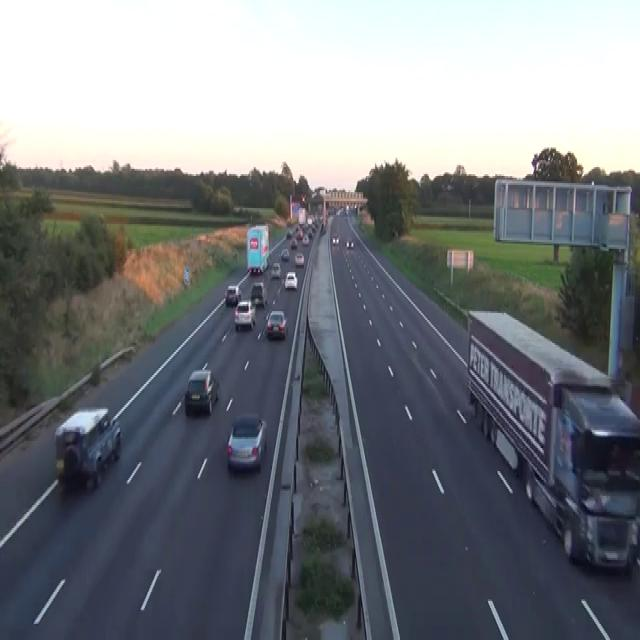Car: (226, 413, 267, 471), (184, 368, 219, 416), (233, 298, 256, 330), (266, 309, 287, 338), (250, 281, 267, 307), (225, 284, 241, 306), (284, 270, 297, 290), (270, 261, 281, 279), (294, 250, 304, 266), (249, 266, 262, 276), (280, 247, 289, 260), (320, 222, 327, 235), (345, 238, 354, 247), (290, 238, 297, 249), (336, 206, 344, 215), (261, 258, 267, 270), (332, 235, 339, 245), (301, 235, 308, 245), (295, 228, 302, 238), (446, 182, 454, 190), (307, 215, 312, 226), (286, 230, 292, 238), (441, 183, 446, 190), (308, 230, 312, 237)
Truck: (466, 308, 639, 574), (54, 407, 121, 491), (246, 222, 269, 274), (298, 206, 306, 226)
